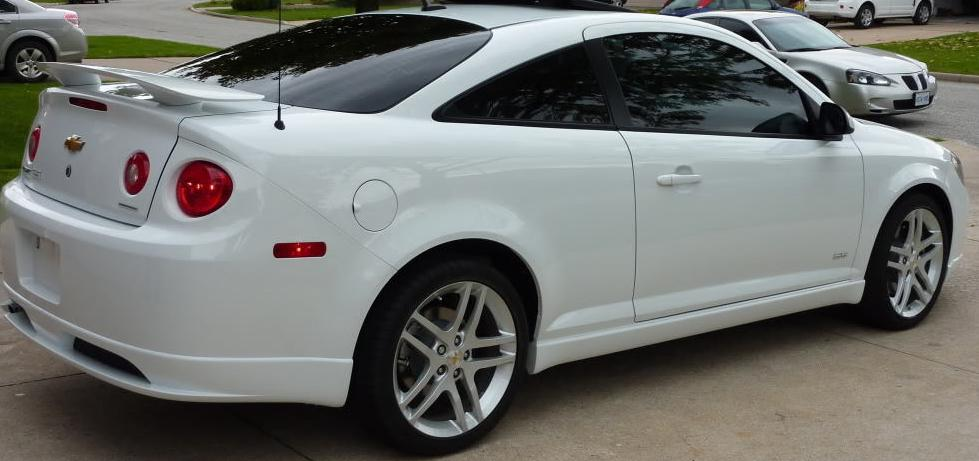back_view: (0, 76, 281, 422)
backlight: (110, 141, 246, 234)
side_glass: (444, 27, 840, 160)
